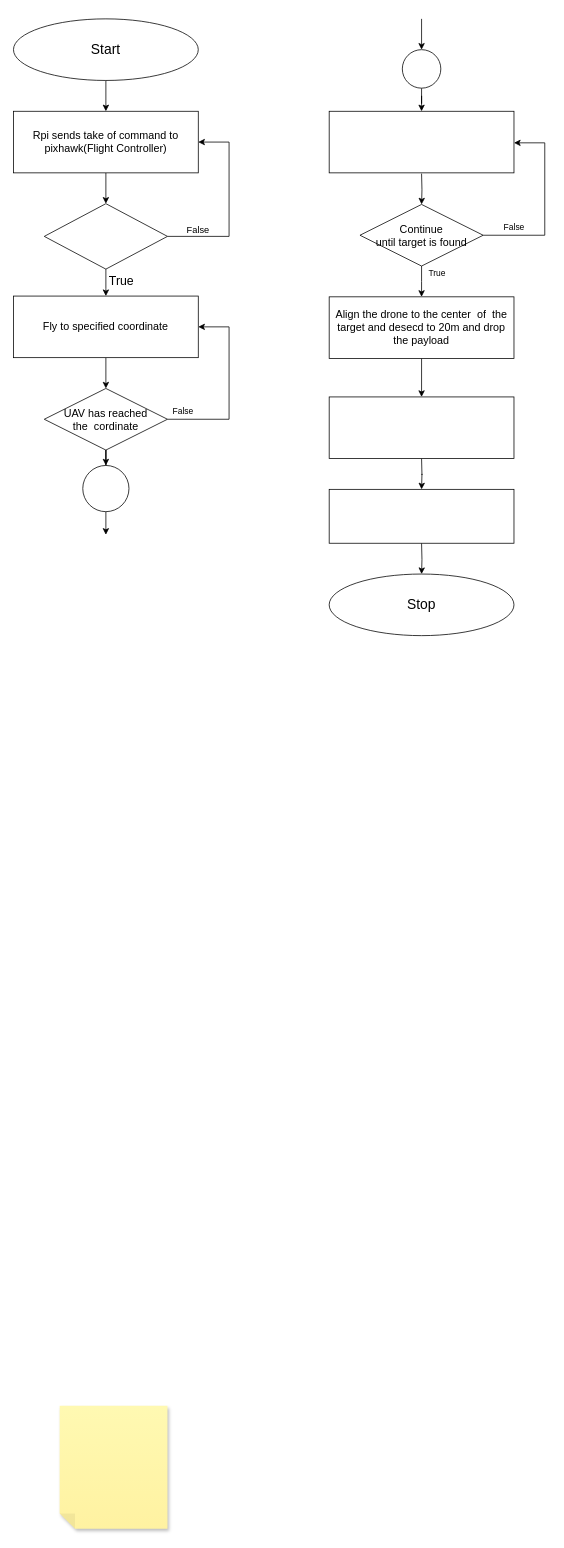
This 564x1548 diagram has some shape labels left out. The centre of each missing label's shape, as x and y in pixels:
"After dropping the payload asced 30m" belongs at point (421, 427).
"Return to home position and land" belongs at point (421, 516).
"Start pattern search" belongs at point (421, 141).
"Take off and ascend to 30m" belongs at point (105, 236).
